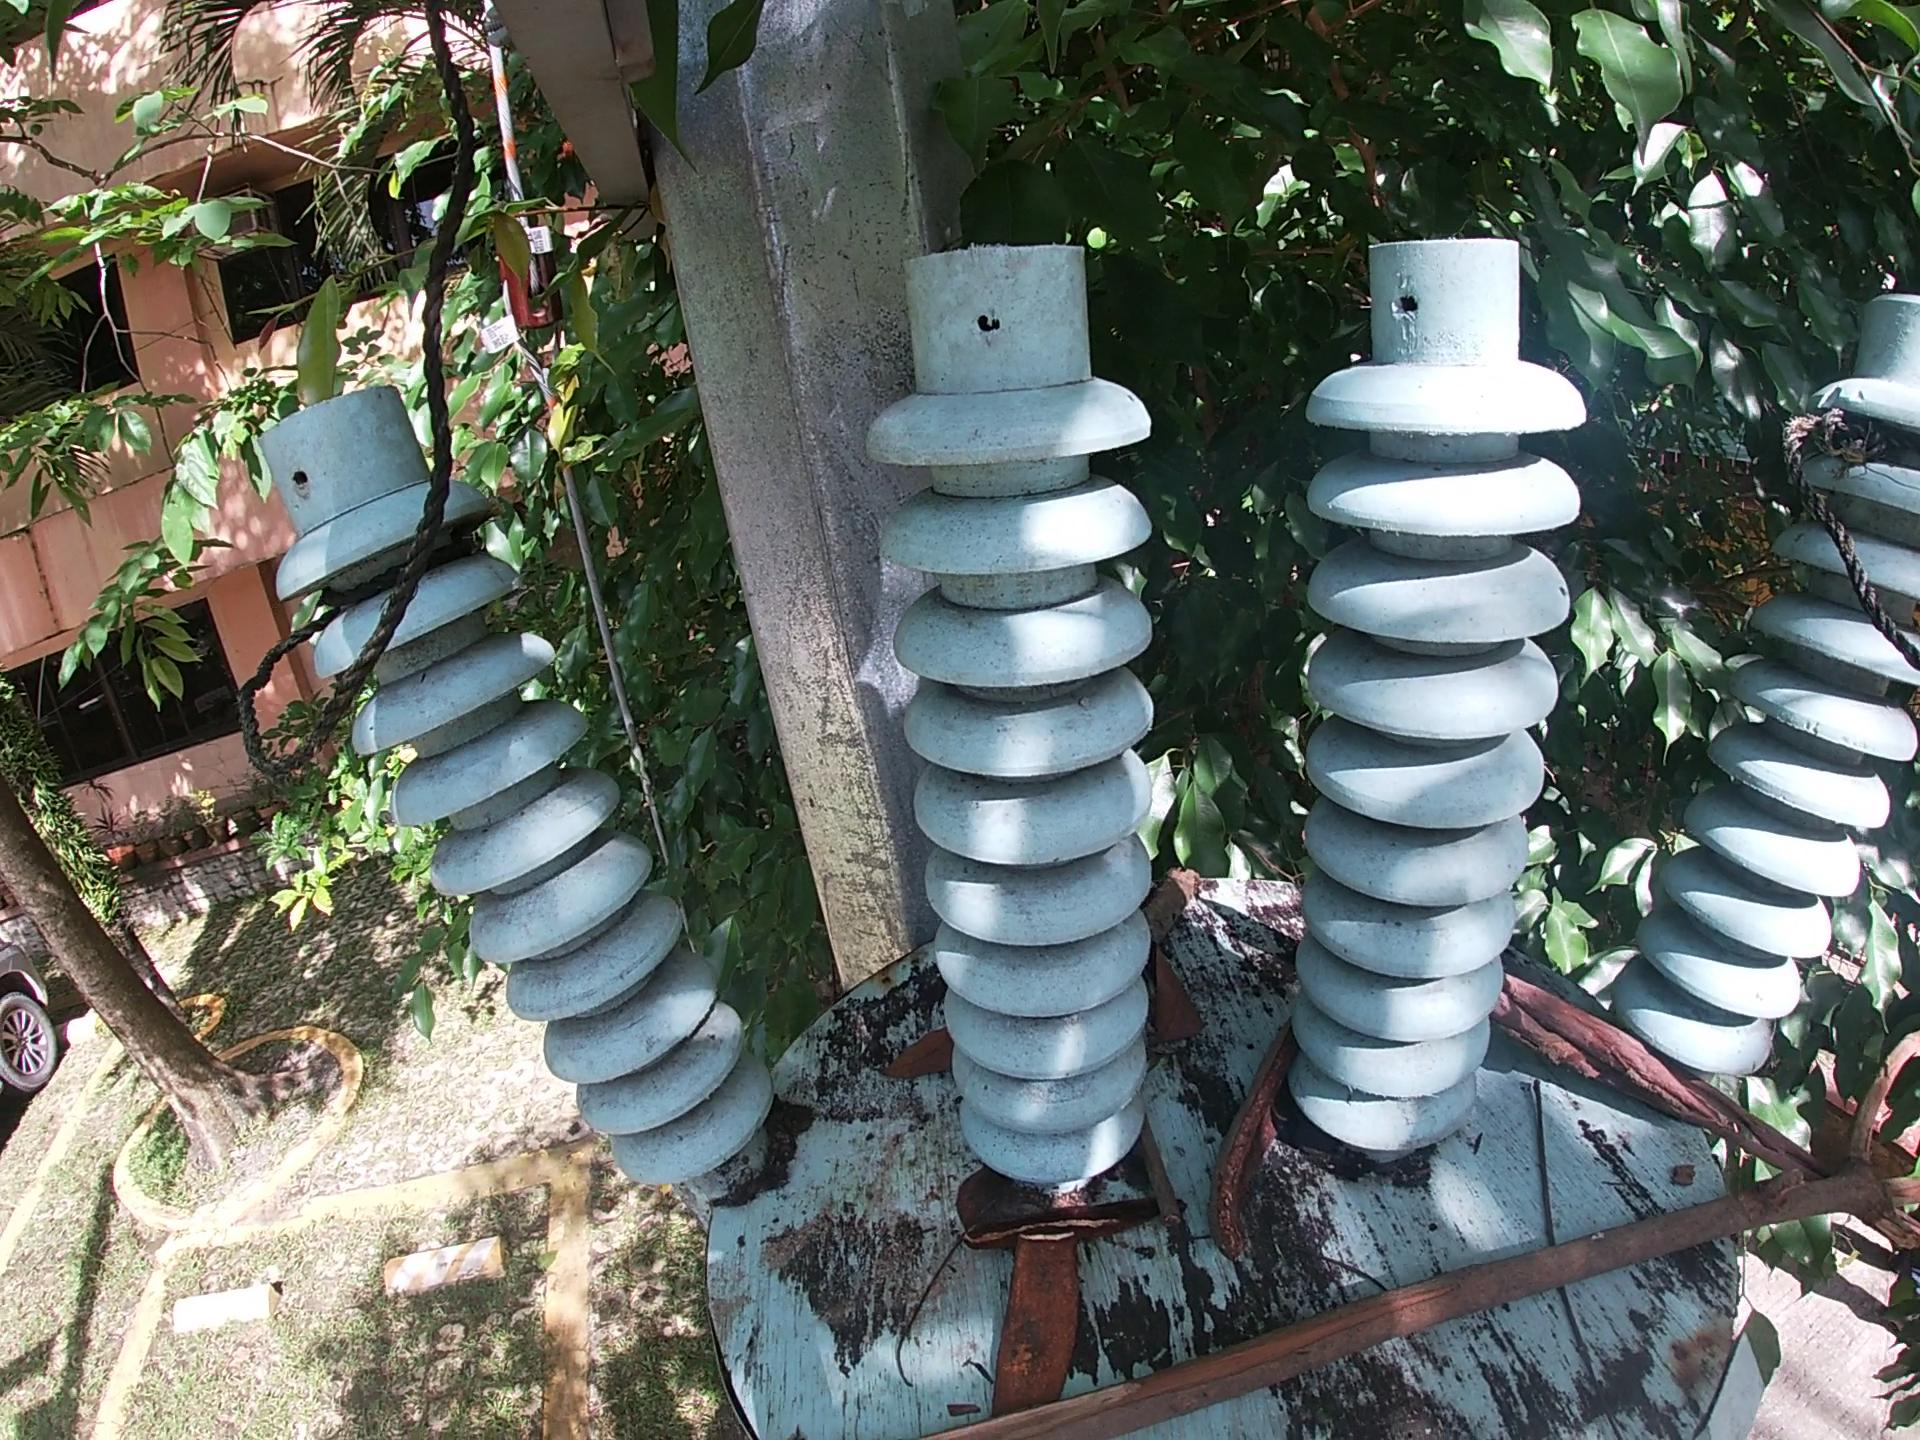leaf: (1146, 970, 1188, 1071), (936, 1171, 1013, 1225), (890, 1038, 939, 1097)
mahogany fruit: (1220, 1013, 1309, 1283), (984, 1234, 1105, 1414)
tree branch: (883, 1036, 1920, 1438), (1488, 977, 1822, 1169), (1528, 1092, 1618, 1376), (850, 1242, 952, 1395), (957, 1199, 1144, 1249), (1141, 1137, 1188, 1251), (1132, 871, 1209, 935)
